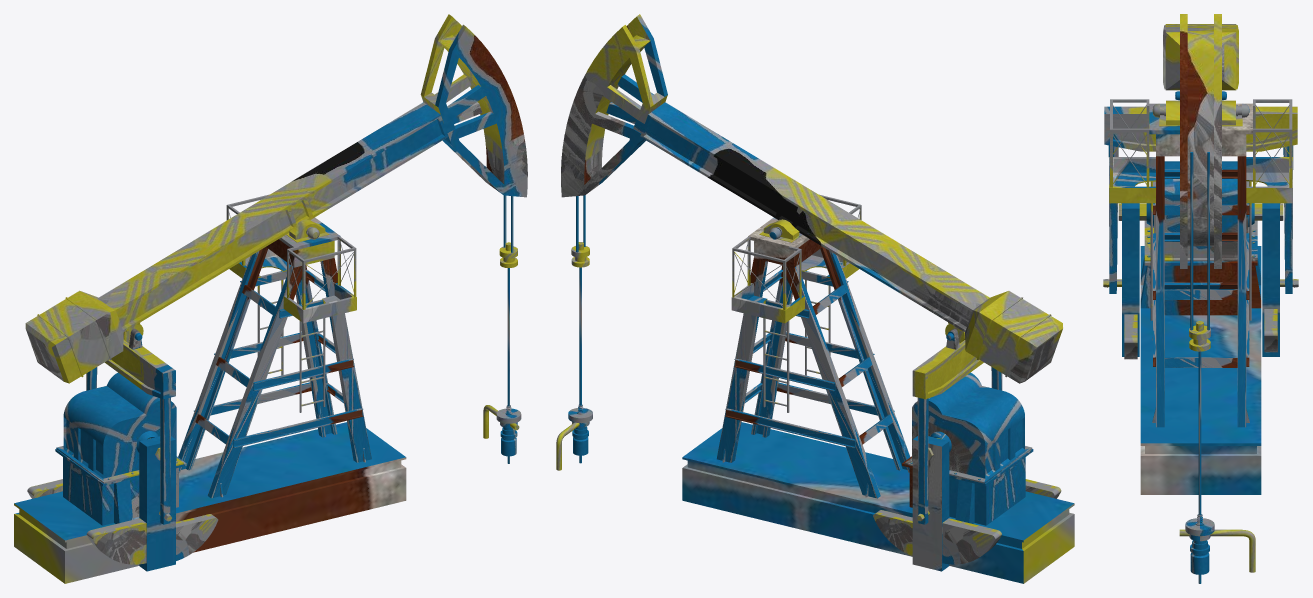
File: oil_pump.glb
3 renders of one model, left to right at view 1: azimuth 30°, elevation 25°; view 2: azimuth 150°, elevation 25°; view 3: azimuth 270°, elevation 25°, orthographic. The views are drawn at different scales.
Parts seen in each view (by area): view 1: pump_static, pump_beam, pump_pitman, pump_rod; view 2: pump_static, pump_beam, pump_pitman, pump_rod; view 3: pump_static, pump_beam, pump_pitman, pump_rod.
Boxes of the visible parts, bbox=[...] form: pump_static: bbox=[14, 207, 521, 583]; pump_beam: bbox=[25, 14, 527, 383]; pump_pitman: bbox=[86, 340, 175, 524]; pump_rod: bbox=[499, 195, 517, 463]; pump_static: bbox=[556, 207, 1074, 583]; pump_beam: bbox=[561, 14, 1062, 383]; pump_pitman: bbox=[912, 340, 1002, 524]; pump_rod: bbox=[571, 195, 589, 463]; pump_static: bbox=[1103, 105, 1298, 574]; pump_beam: bbox=[1110, 14, 1292, 268]; pump_pitman: bbox=[1104, 106, 1297, 293]; pump_rod: bbox=[1189, 151, 1210, 583].
Bounding box in the file's own units: 2 × 1.81 × 0.5928.
1 material, 1 textured.
